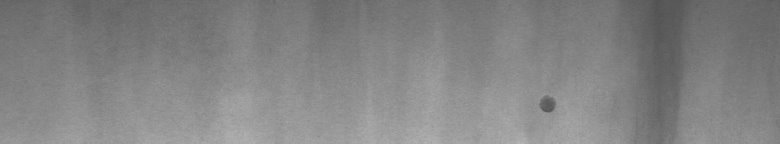fi: (536, 92, 560, 120)
